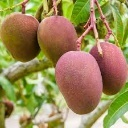mango: (55, 51, 101, 114)
